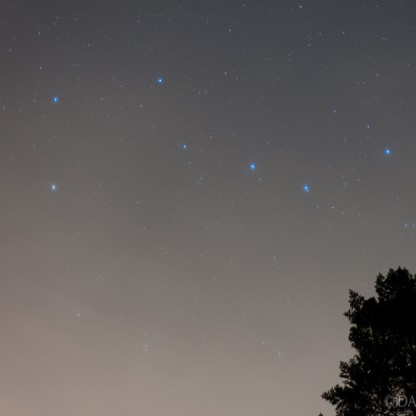Ursa Major: (240, 154, 267, 179), (37, 84, 63, 107), (293, 177, 317, 199), (378, 139, 399, 162), (172, 136, 194, 157), (147, 69, 172, 87), (41, 177, 63, 194)
